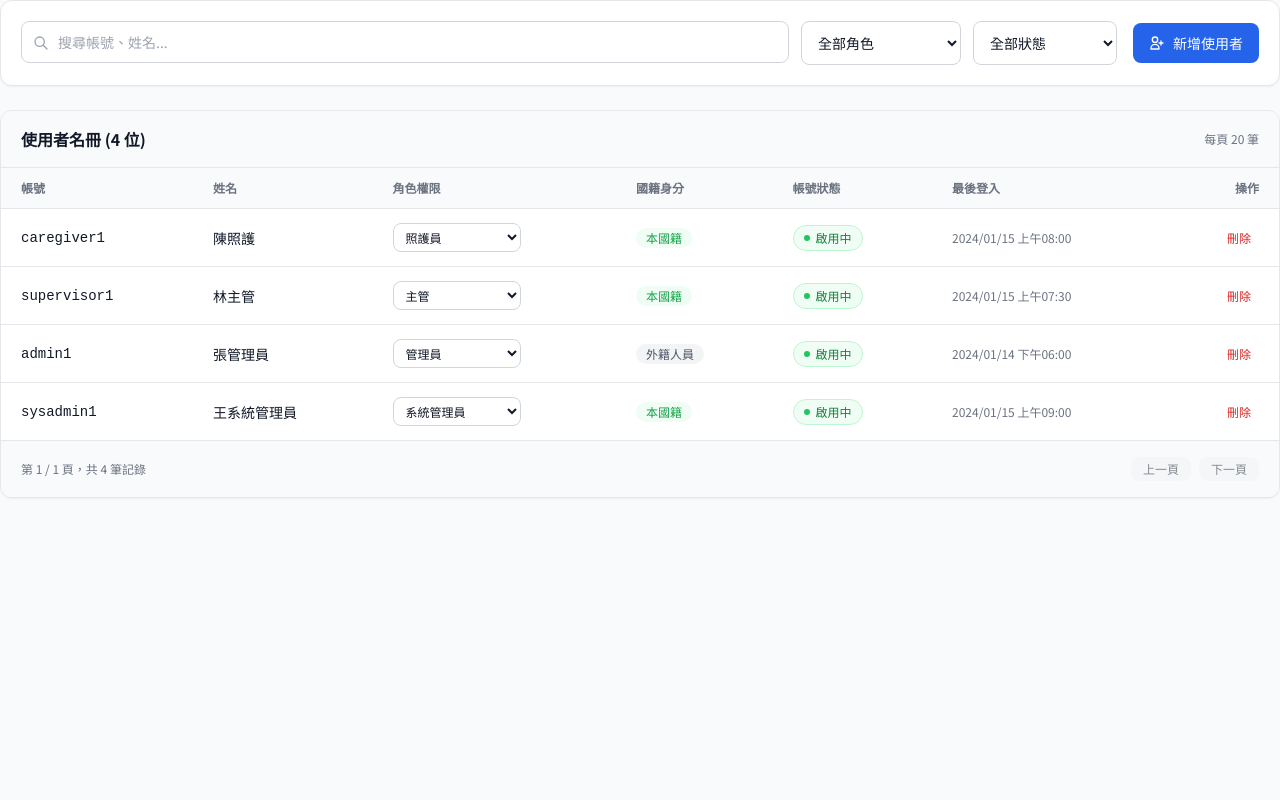
Test: User Management View (Features F6, F7, F8, F21) › successfully creates new user via POST /api/v1/users
Step 1. Click the button "新增使用者" → (1196, 43), box [1133,23,1259,63]
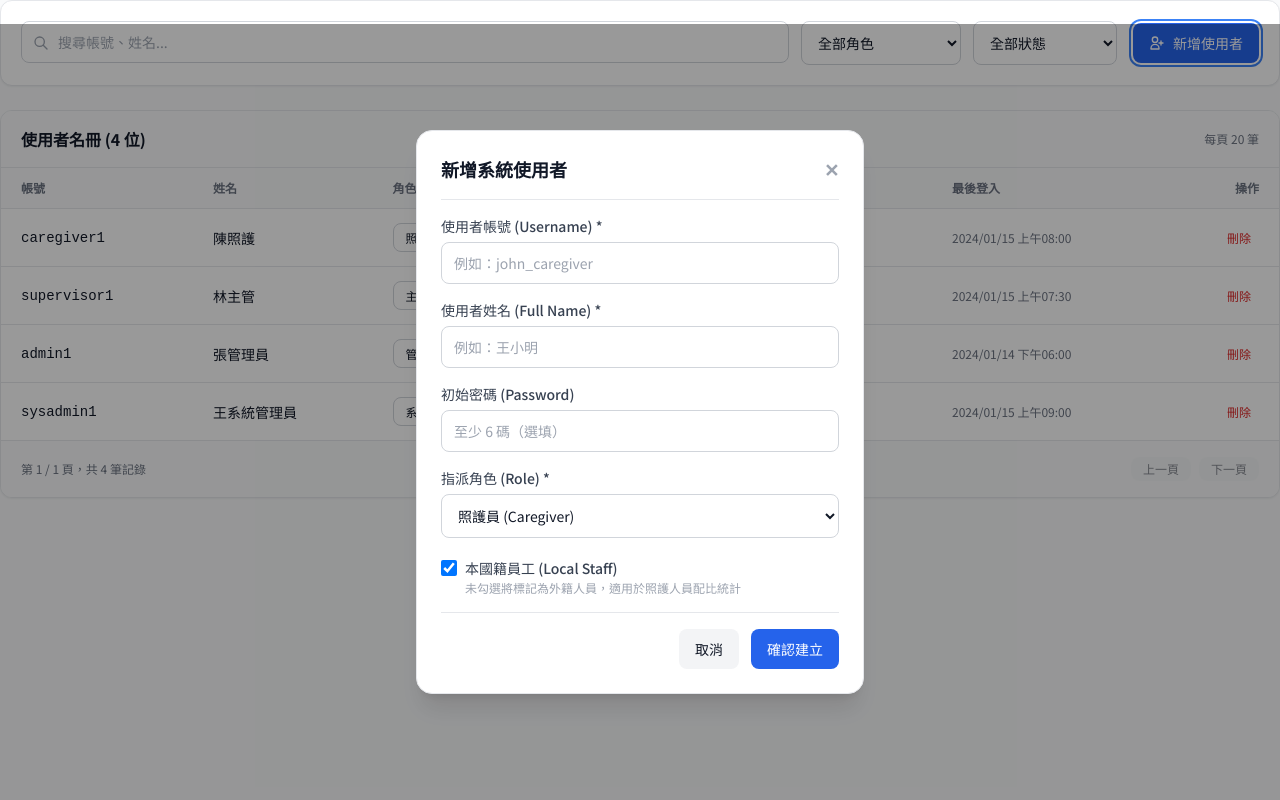
Step 2. Type "new_nurse" into the field named "使用者帳號" → (640, 263), box [441,242,839,284]
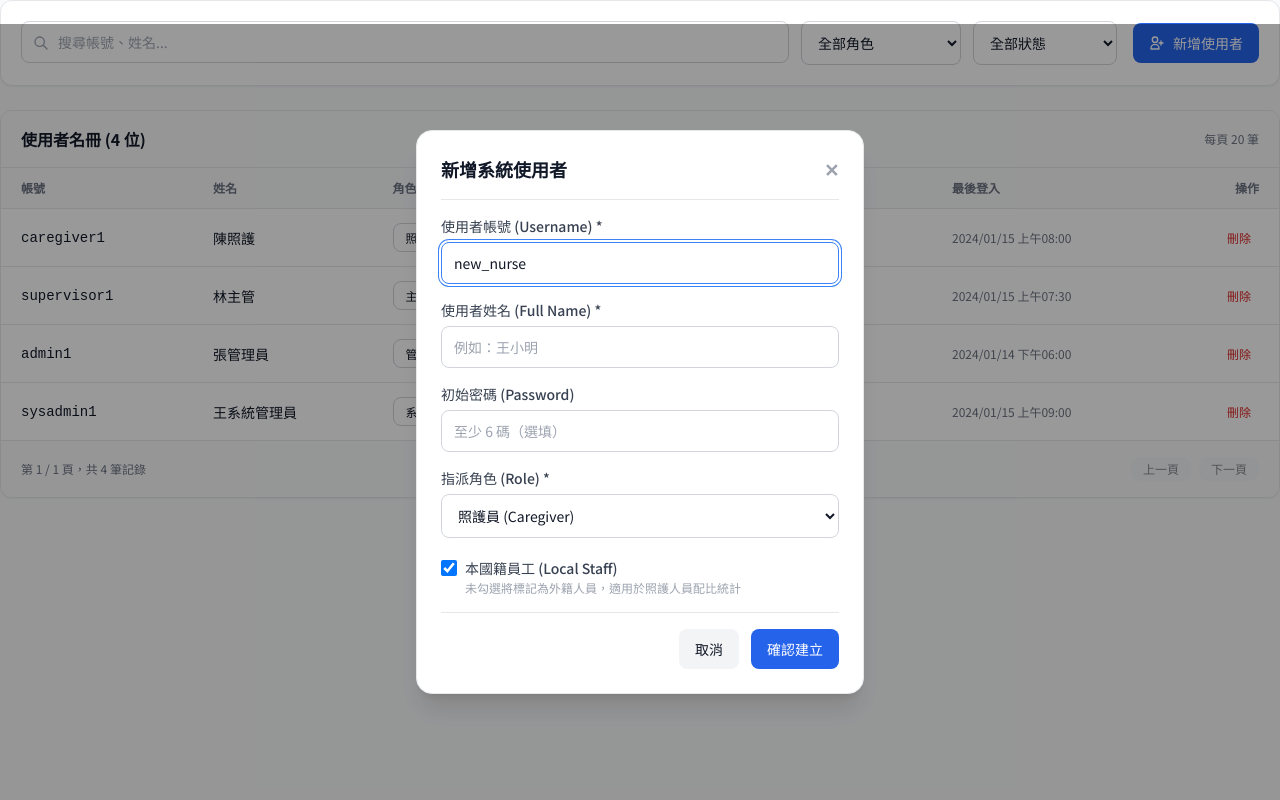
Step 3. Type "吳護理師" into the field named "使用者姓名" → (640, 347), box [441,326,839,368]
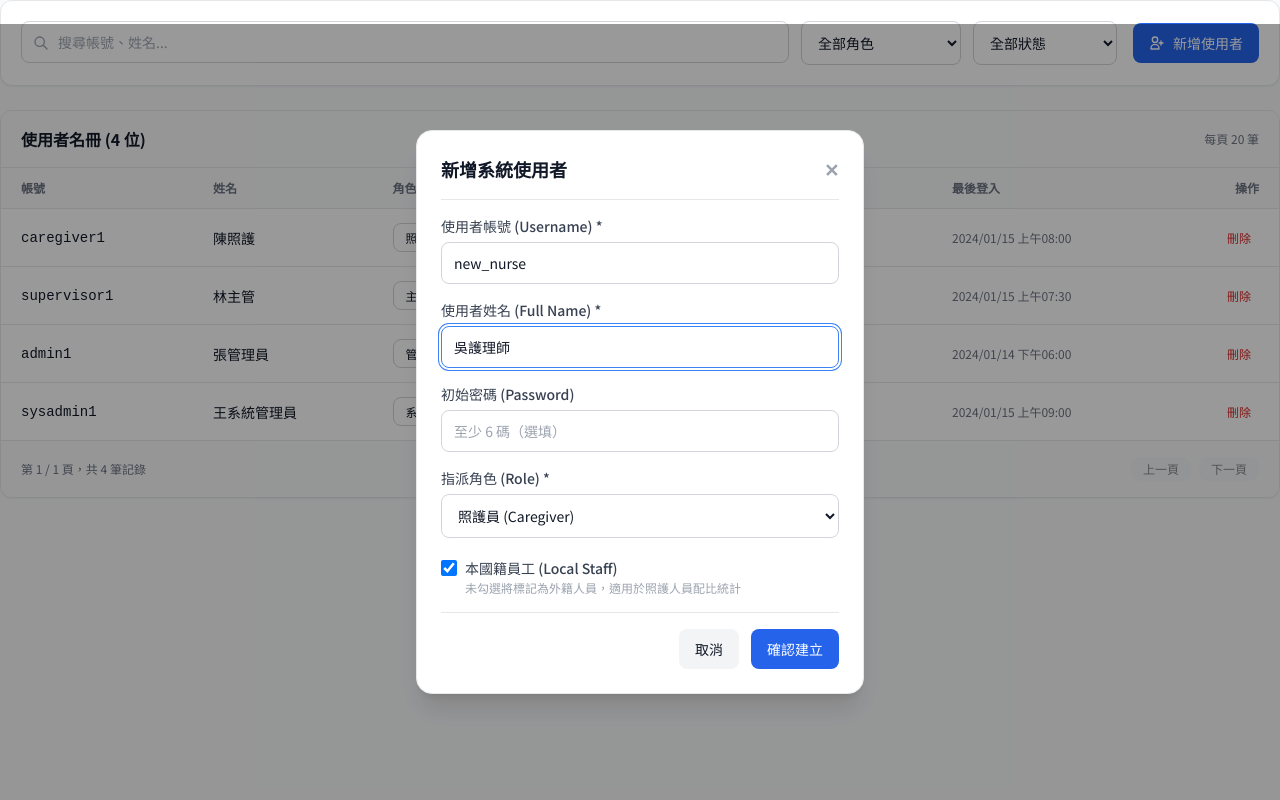
Step 4. Type "pass123456" into the password field named "初始密碼" → (640, 431), box [441,410,839,452]
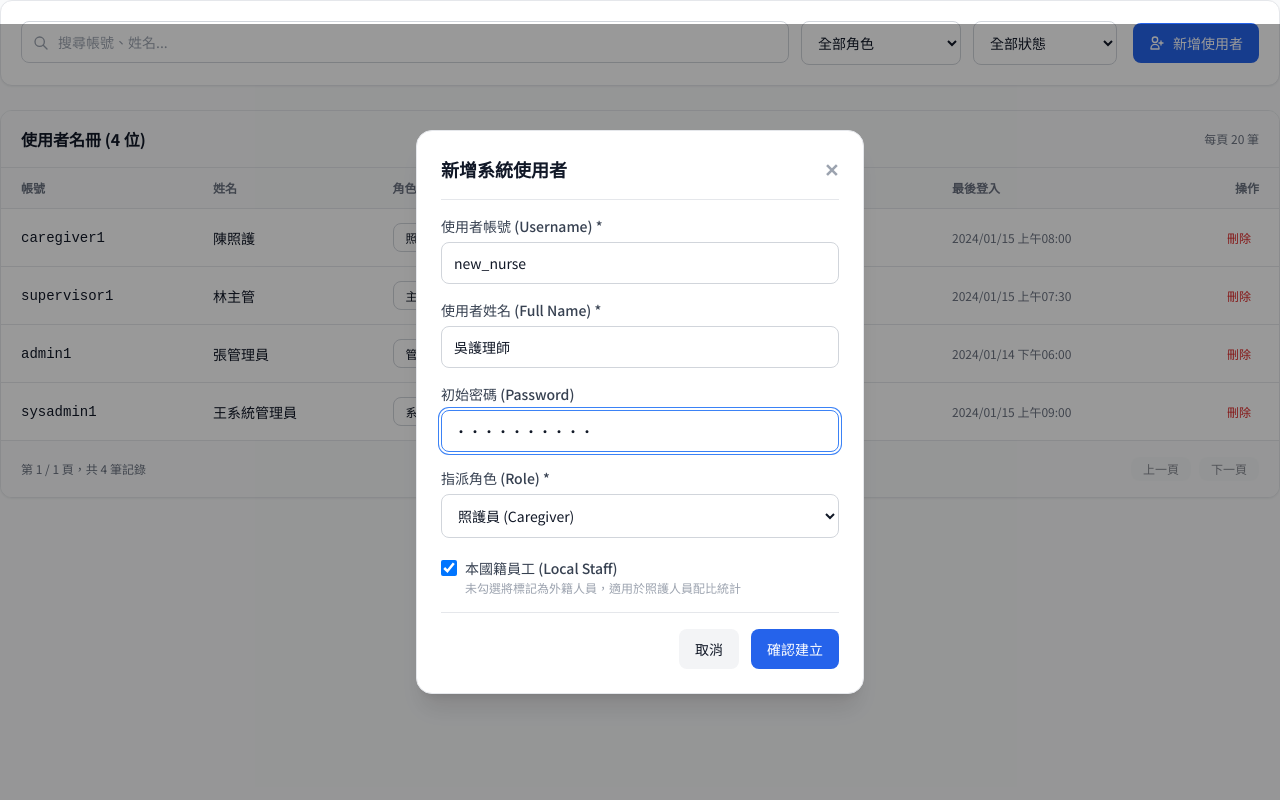
Step 5. Select "照護員 (Caregiver)" in the dropdown named "指派角色" → (640, 516), box [441,494,839,538]
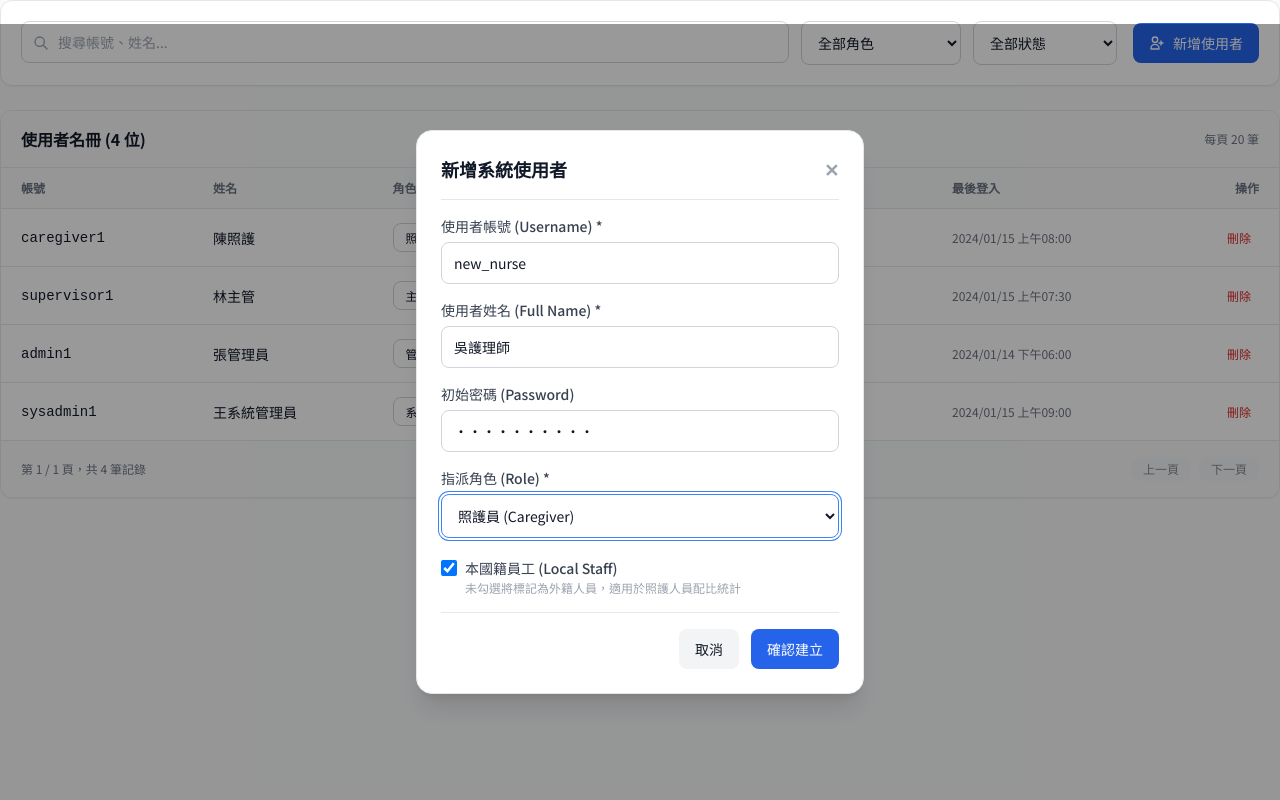
Step 6. Click the button "確認建立" → (795, 649), box [751,629,839,669]
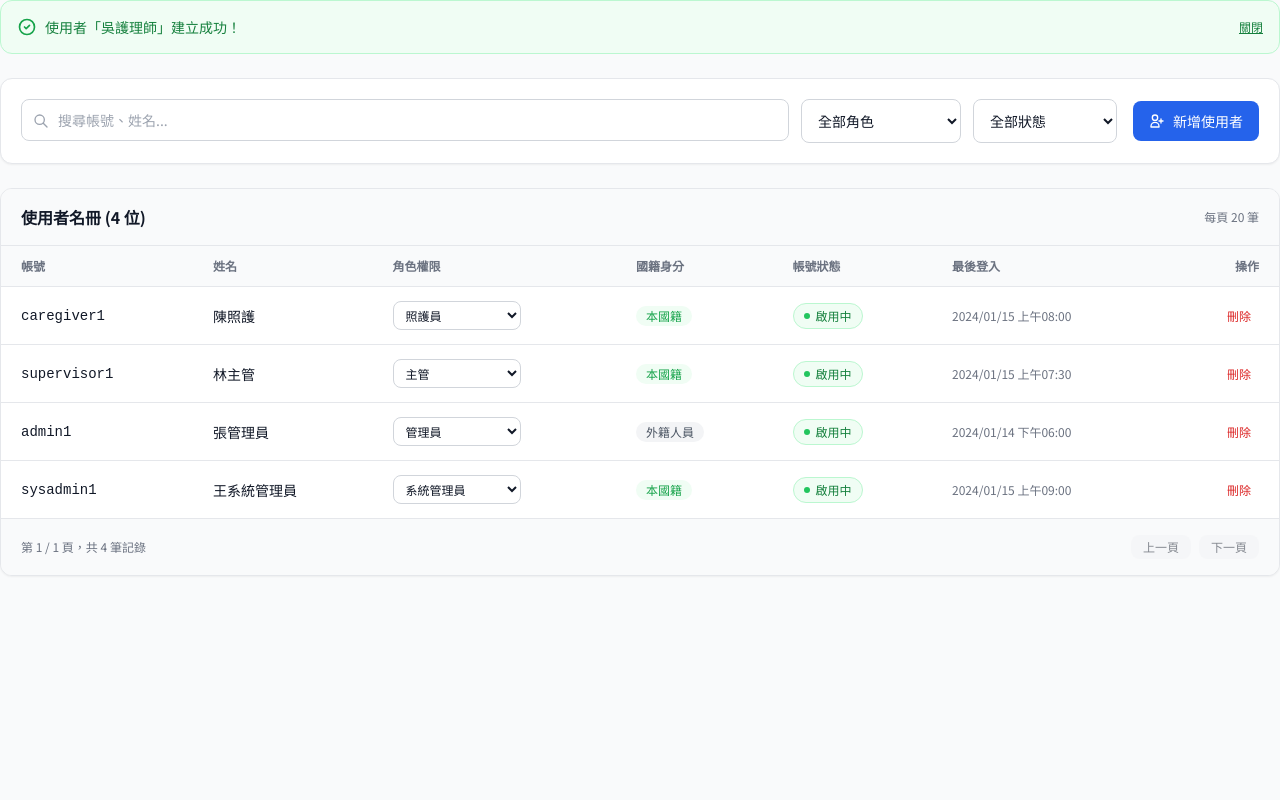
Expected: the text "使用者「吳護理師」建立成功！" is shown, [45,17,241,37]
